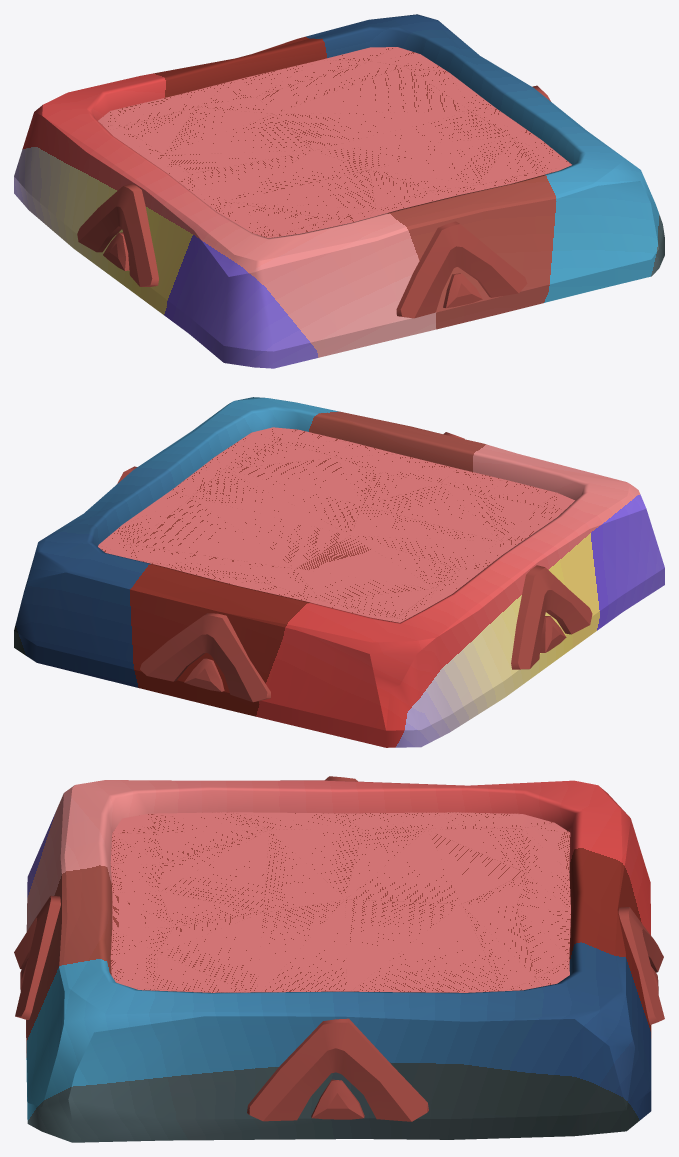
File: Prop_AP30ChallengeBouncePad_Level3.glb
3 views of the same model, one above another, from view 1: azimuth 30°, elevation 25°; view 2: azimuth 150°, elevation 25°; view 3: azimuth 270°, elevation 25° (orthographic). The views are drawn at different scales.
Parts seen in each view (by area): view 1: Prop_AP30ChallengeBouncePad_Level3; view 2: Prop_AP30ChallengeBouncePad_Level3; view 3: Prop_AP30ChallengeBouncePad_Level3.
Boxes of the visible parts, x1,y1,x2,y2 form: Prop_AP30ChallengeBouncePad_Level3: (14,14,664,368); Prop_AP30ChallengeBouncePad_Level3: (14,397,664,747); Prop_AP30ChallengeBouncePad_Level3: (14,776,664,1142).
Bounding box in the file's own units: 1.03 × 0.2124 × 1.05.
1 material, 1 textured.
